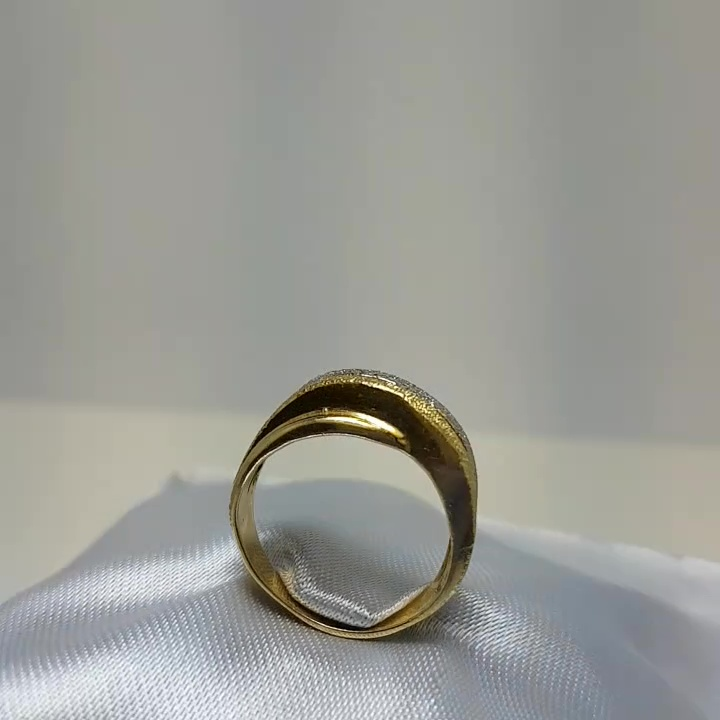Ring 5: (220, 341, 493, 651)
